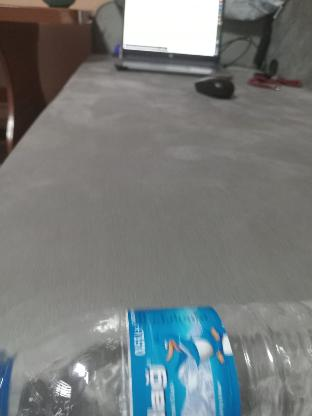Plastic Bottle: (6, 296, 312, 416)
